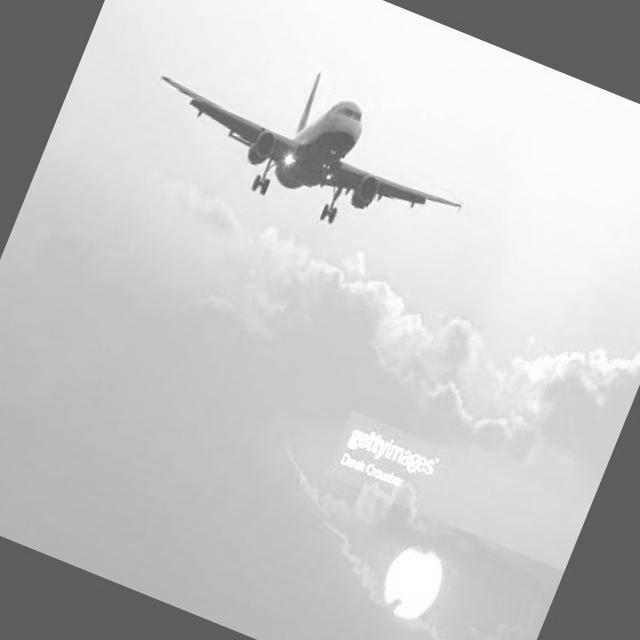aeroplane: (118, 9, 493, 277)
